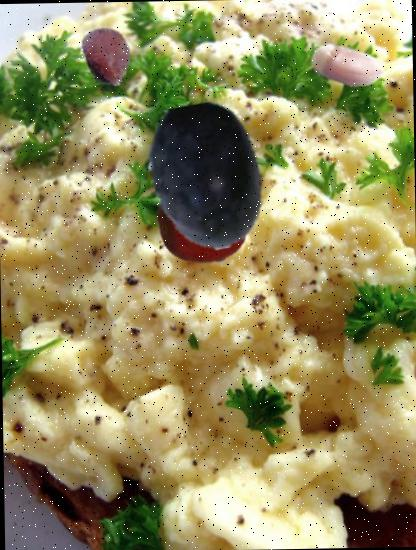Apple: (154, 170, 250, 266)
Blueberry: (129, 102, 280, 252)
Hazelnut: (309, 28, 386, 105)
Salak: (76, 24, 140, 88)
